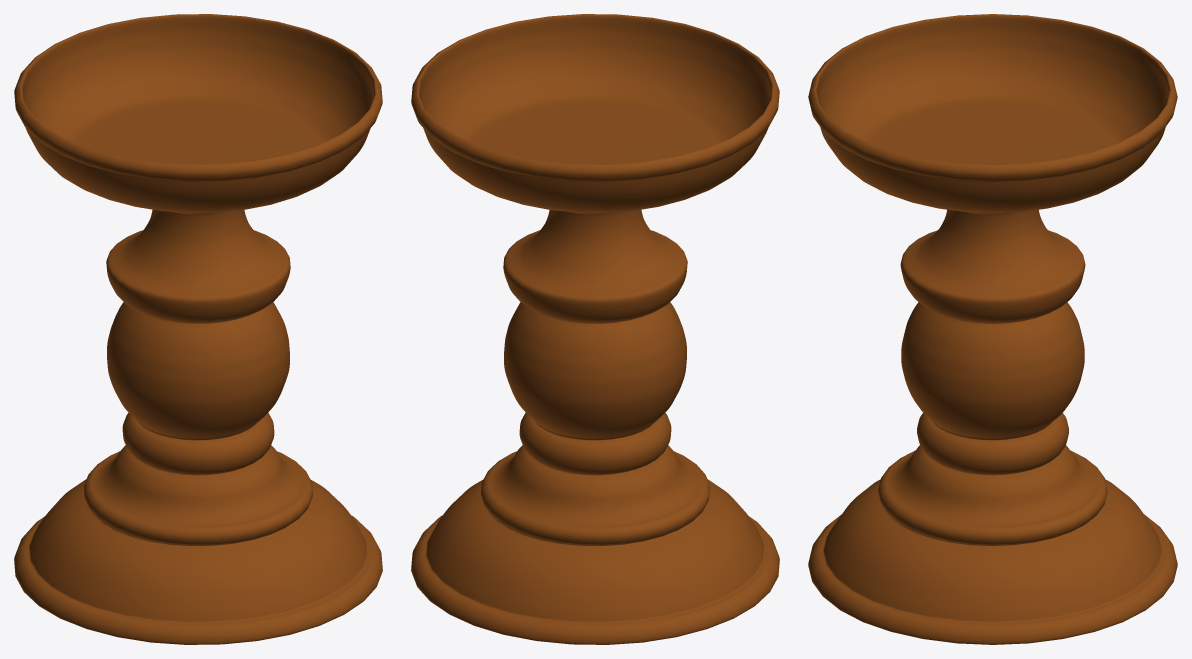
File: CANDLE STICK.fbx
The picture shows the model from 3 angles, left to right: view 1: azimuth 30°, elevation 25°; view 2: azimuth 150°, elevation 25°; view 3: azimuth 270°, elevation 25°; orthographic projection.
Parts seen in each view (by area): view 1: CANDLE STICK; view 2: CANDLE STICK; view 3: CANDLE STICK.
Part boxes in pixels (left/top/right/bottom): CANDLE STICK: left=14, top=14, right=382, bottom=644; CANDLE STICK: left=411, top=14, right=779, bottom=644; CANDLE STICK: left=808, top=14, right=1177, bottom=644.
Bounding box in the file's own units: 21.6 × 30.85 × 21.6.
